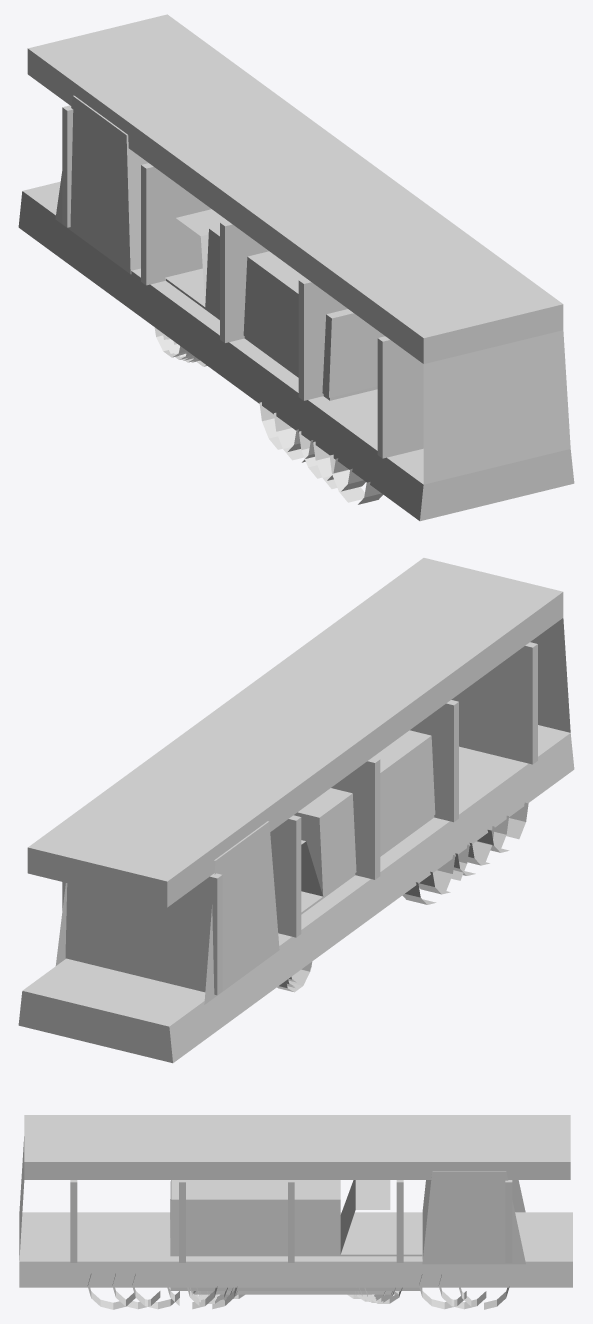
The model's file is Vehicles.fbx.
3 views of the same model, one above another, from view 1: azimuth 30°, elevation 25°; view 2: azimuth 150°, elevation 25°; view 3: azimuth 270°, elevation 25° (orthographic). The views are drawn at different scales.
Visible parts, largest first — view 1: Veh_bus_LOD0, Veh_van_LOD0, Veh_truck_LOD0, Veh_garbage_LOD0; view 2: Veh_bus_LOD0, Veh_van_LOD0, Veh_truck_LOD0, Veh_garbage_LOD0; view 3: Veh_bus_LOD0, Veh_van_LOD0, Veh_truck_LOD0, Veh_car_suv_LOD0, Veh_garbage_LOD0, Veh_sport_LOD0, Veh_ambulance_LOD0.
Boxes of the visible parts, x1,y1,x2,y2 form: Veh_bus_LOD0: (18,14,574,521); Veh_van_LOD0: (163,209,384,400); Veh_truck_LOD0: (55,95,365,491); Veh_garbage_LOD0: (259,402,348,480); Veh_bus_LOD0: (18,558,574,1063); Veh_van_LOD0: (286,730,435,987); Veh_truck_LOD0: (55,815,508,1004); Veh_garbage_LOD0: (402,826,494,904); Veh_bus_LOD0: (19,1115,572,1309); Veh_van_LOD0: (170,1180,422,1302); Veh_truck_LOD0: (112,1171,525,1309); Veh_car_suv_LOD0: (199,1216,392,1301); Veh_garbage_LOD0: (132,1274,466,1309); Veh_sport_LOD0: (193,1291,398,1301); Veh_ambulance_LOD0: (190,1287,402,1303).
Size of what is drawn, in the model's own units: 261 by 357 by 1143.
Materials: 1 (1 with a texture image).
